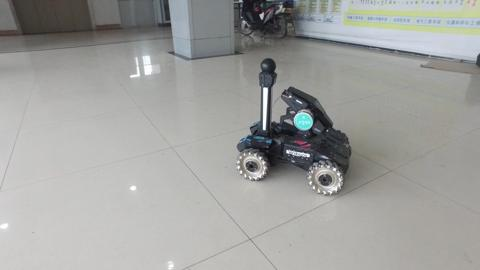chariot: (235, 56, 352, 196)
